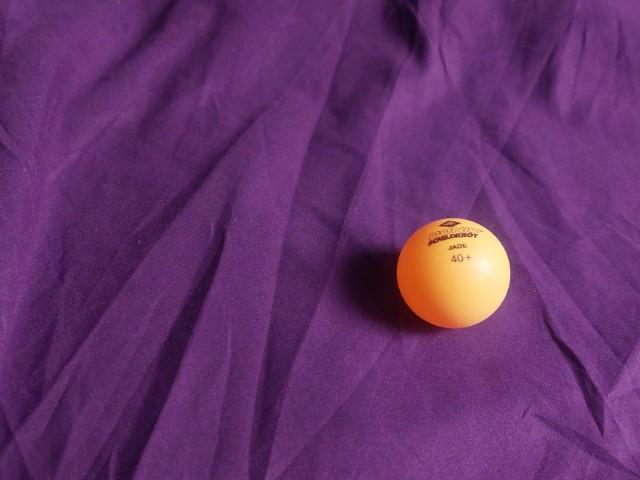oball: (388, 208, 524, 335)
